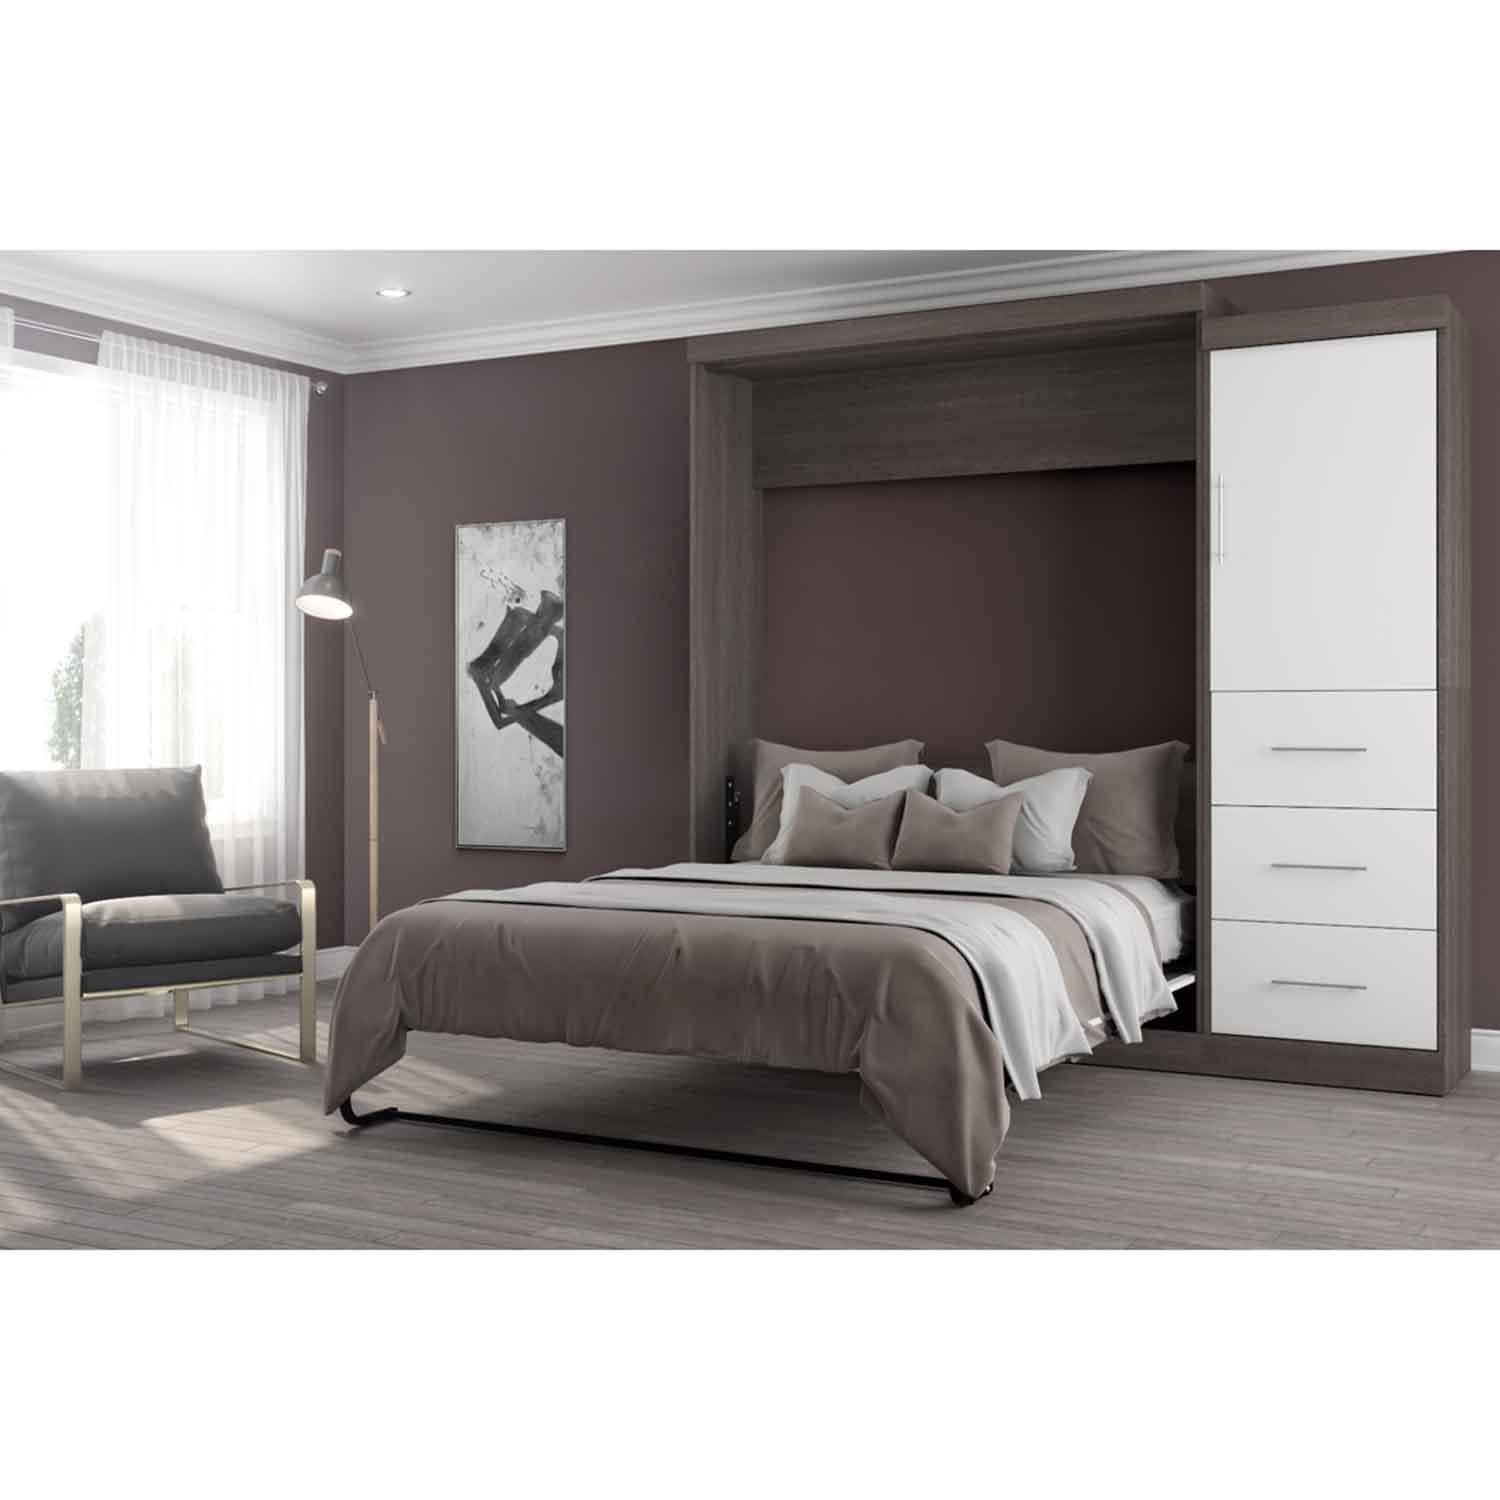bed: (474, 724, 1217, 1177)
